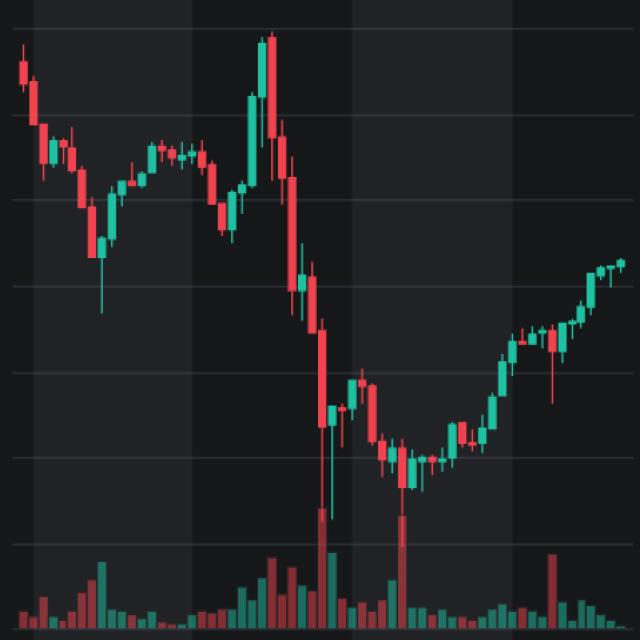Inverse-Head-Shoulders: (262, 252, 603, 490)
